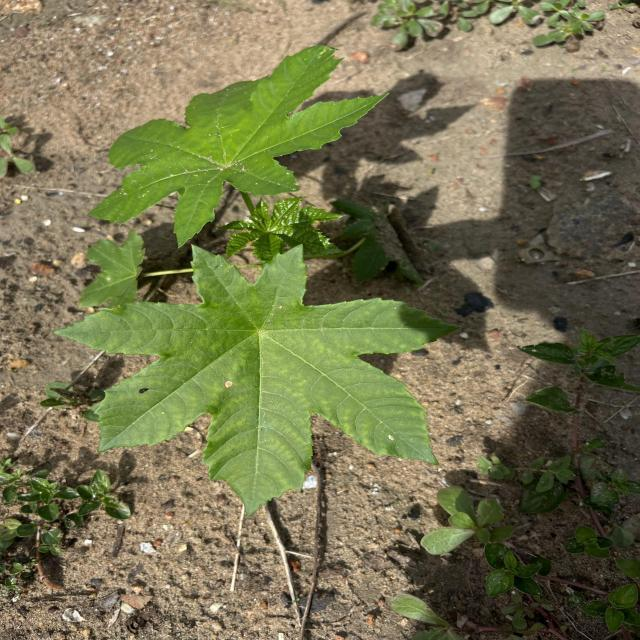Ricinus communis linn: (49, 239, 466, 521), (85, 40, 393, 251)
